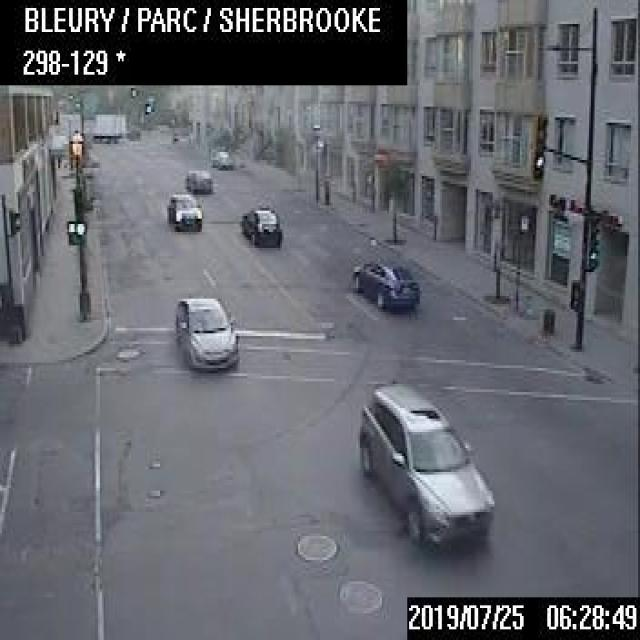vehicle: (356, 382, 494, 547), (174, 295, 238, 371), (351, 255, 418, 307), (240, 200, 281, 246), (166, 191, 202, 229), (90, 111, 124, 140), (183, 168, 211, 191), (211, 148, 231, 168)
